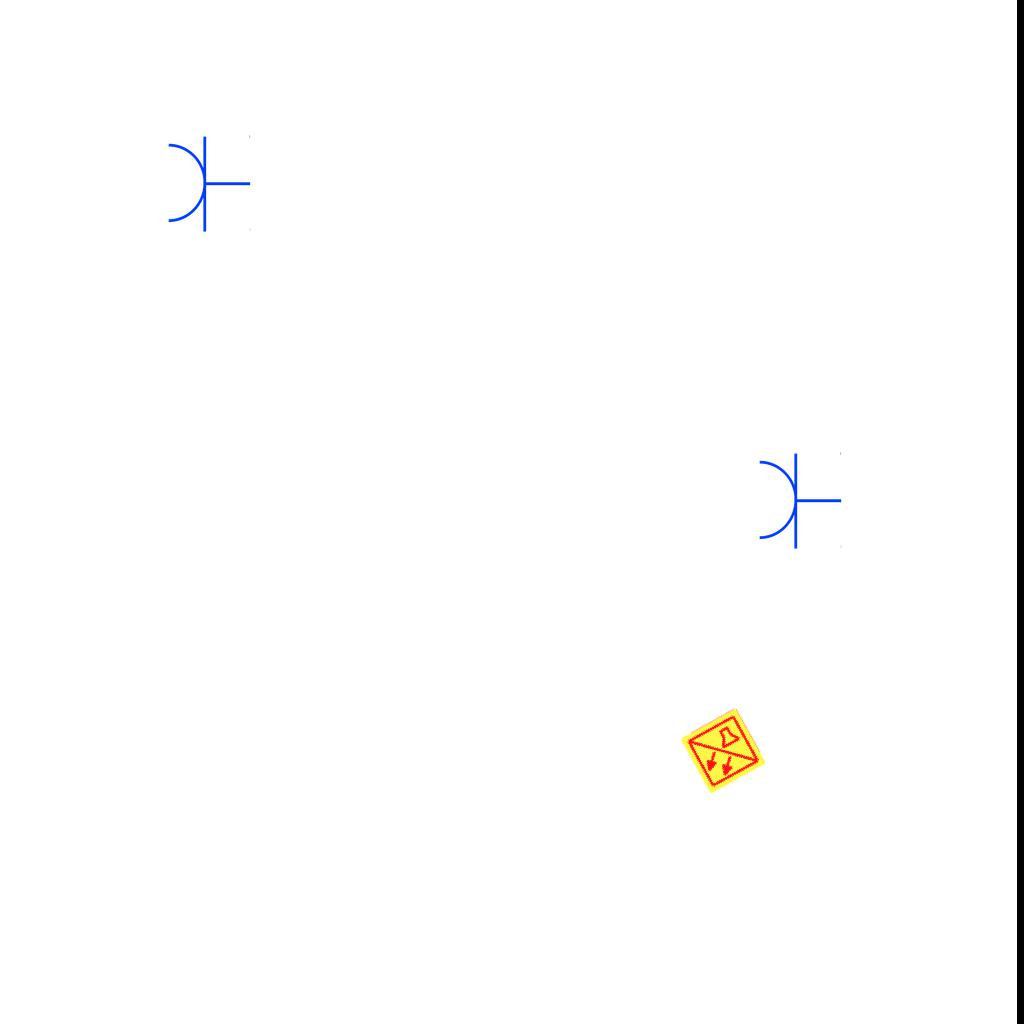OKW_Multisensormelder_(Kombination_optischer_Rauch-Kahlenmonoxid_Waerme-Melder): (678, 706, 768, 796)
Schukosteckdose_einfach: (755, 450, 842, 550), (164, 133, 251, 233)
